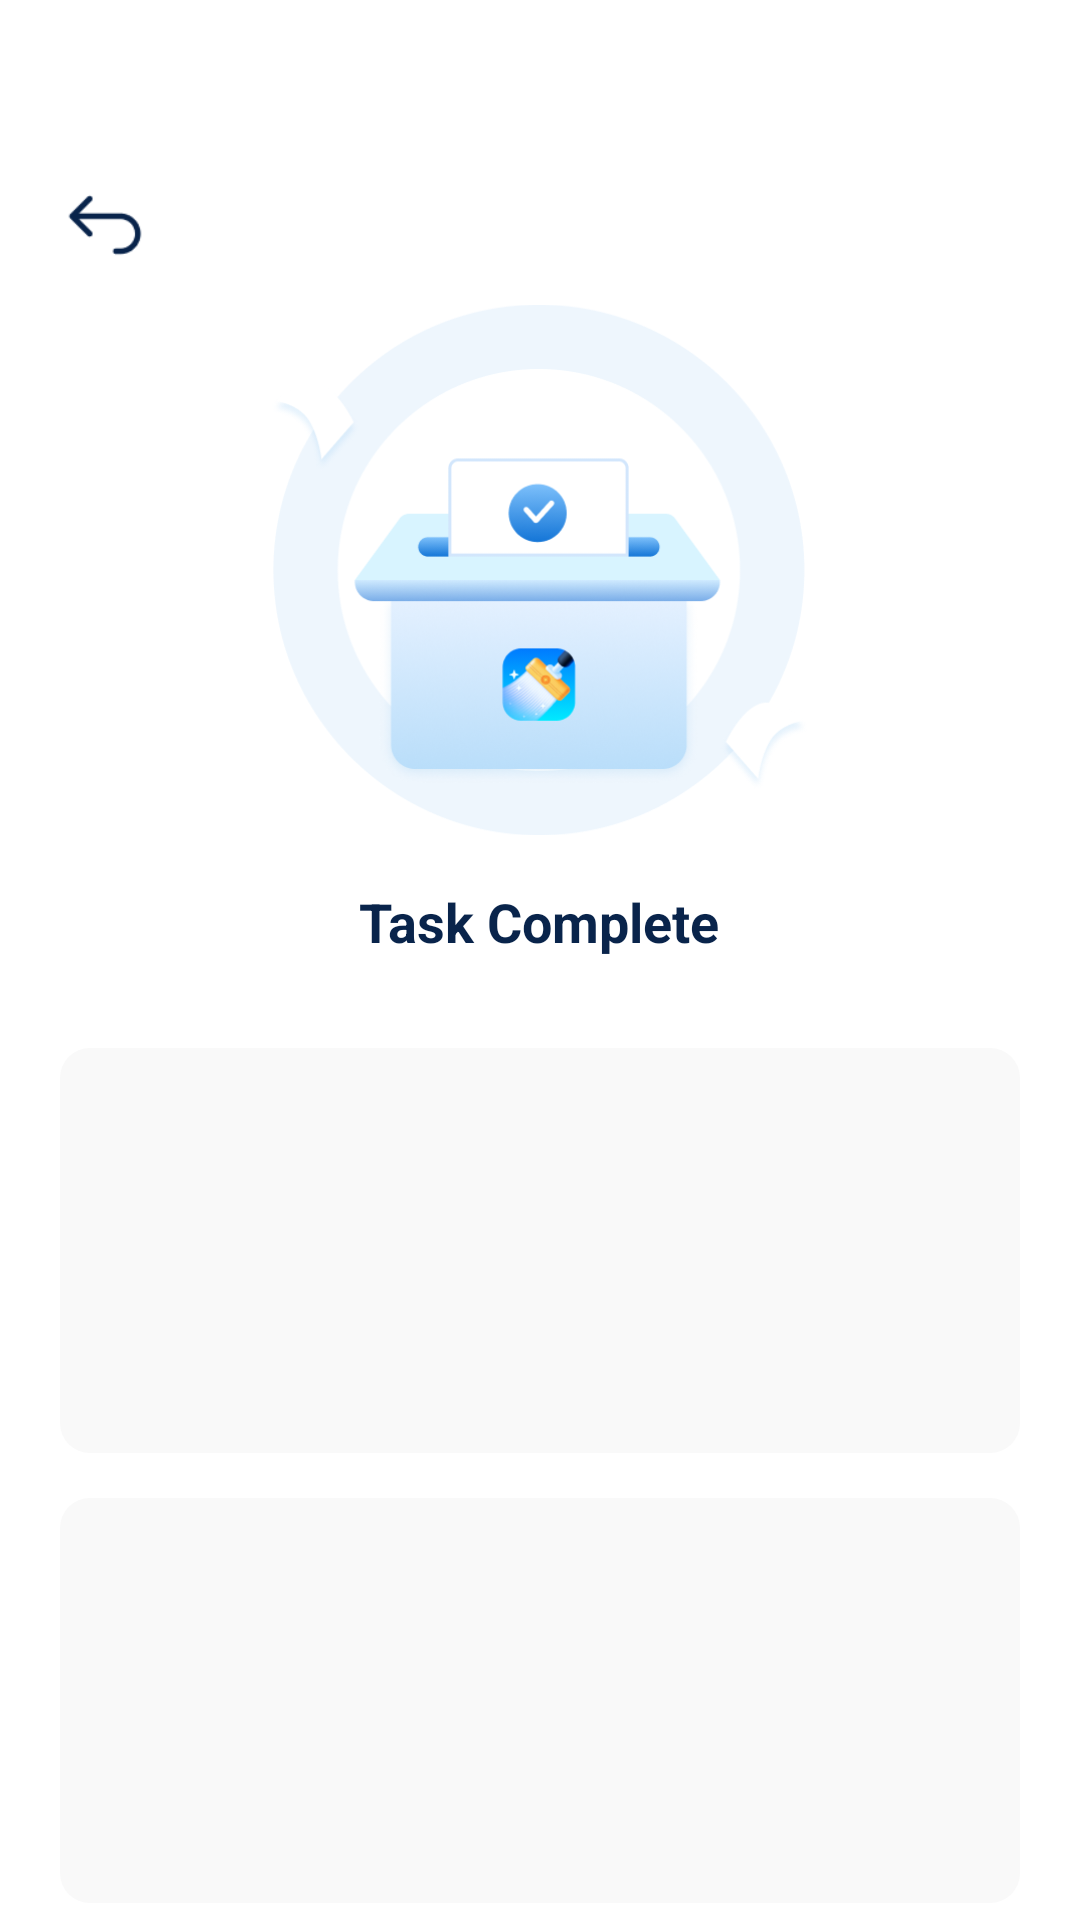

Where to tap for icons on this 1080*1920 app screen, as [x,y]:
back: [105,225]
